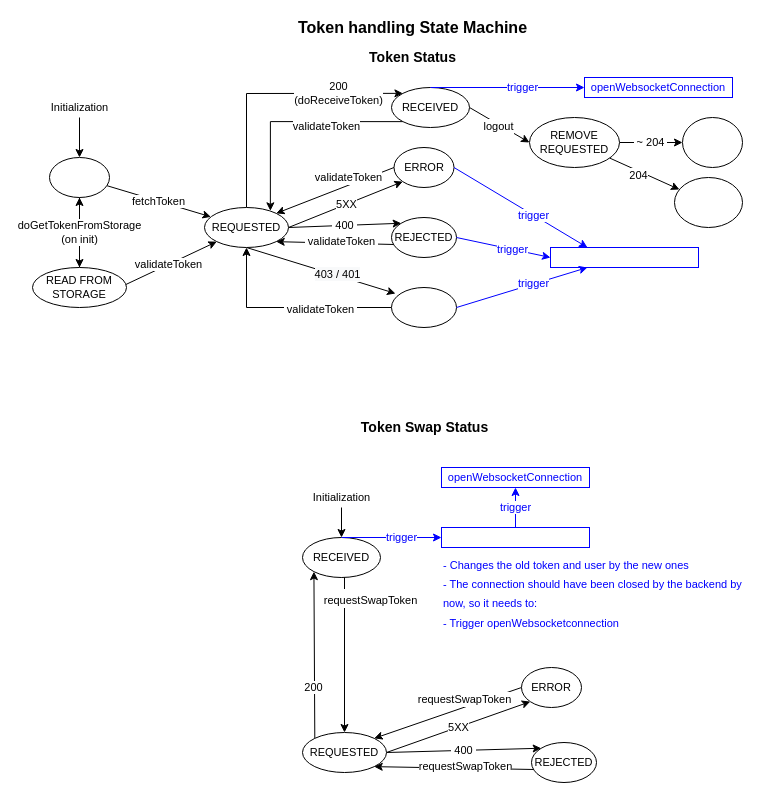
The diagram is 768 pixels wide and 800 high, and some of its shapes have lost their labels. The shapes that lost their labels are listed below. From the top down, each one's box as (x1, y1, x2, y2) in pixels, then its label:
(682, 116, 742, 168): REMOVE ERROR
(48, 156, 110, 198): EMPTY
(674, 176, 742, 228): REMOVED REMOTELY
(550, 246, 698, 268): closeWebsocketConnection
(390, 286, 456, 328): EXPIRED
(440, 526, 590, 548): doReceiveToken
